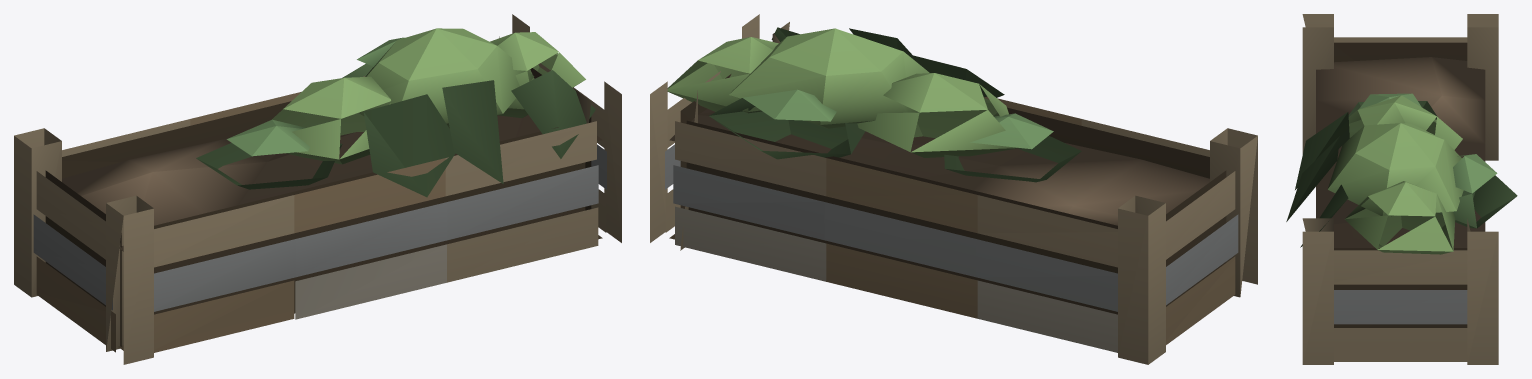
Rendered from planter.lod.glb.
The picture shows the model from 3 angles, left to right: view 1: azimuth 30°, elevation 25°; view 2: azimuth 150°, elevation 25°; view 3: azimuth 270°, elevation 25°; orthographic projection. The views are drawn at different scales.
Visible parts, largest first — view 1: planter; view 2: planter; view 3: planter.
Boxes of the visible parts, x1=… form: planter: x1=14, y1=14, x2=621, y2=364; planter: x1=650, y1=14, x2=1257, y2=364; planter: x1=1286, y1=14, x2=1517, y2=364.
Bounding box in the file's own units: 1.22 × 0.474 × 0.5381.
